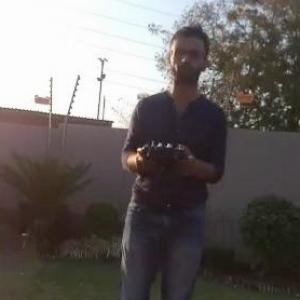follow: (112, 18, 231, 299)
